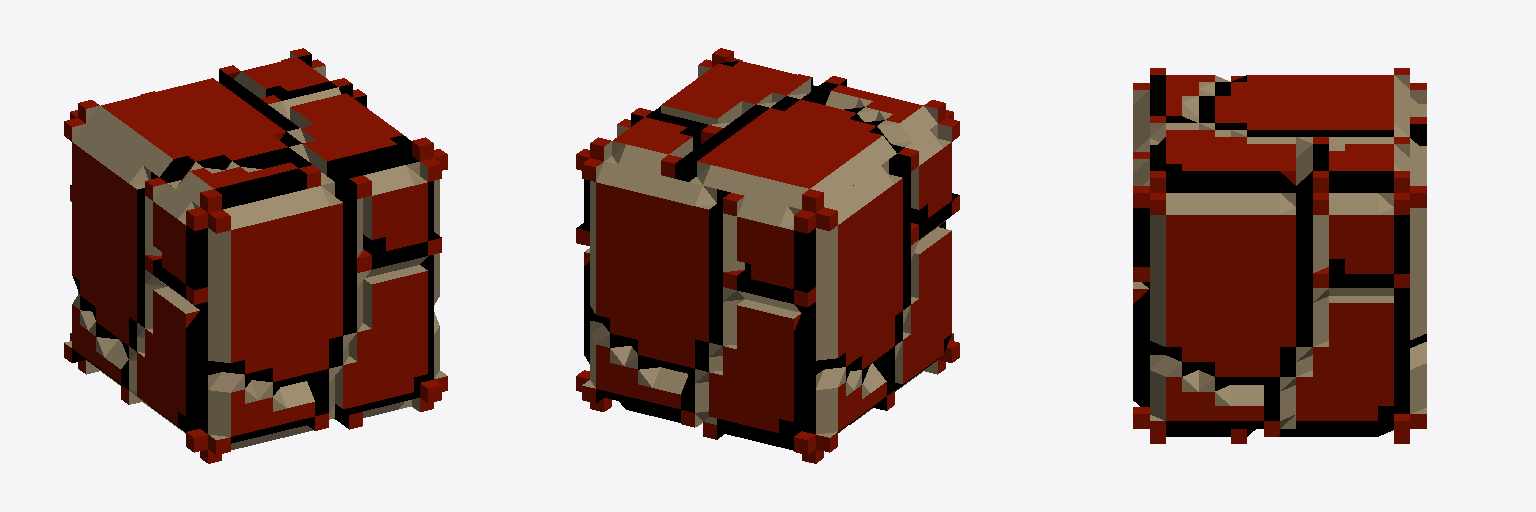
File: groundBlock.obj
3 renders of one model, left to right at view 1: azimuth 30°, elevation 25°; view 2: azimuth 150°, elevation 25°; view 3: azimuth 270°, elevation 25°, orthographic.
Size of the model in its own units: 2.25 by 2.25 by 2.25.